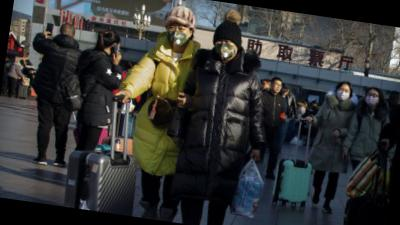with_mask: (164, 23, 192, 49), (214, 37, 239, 63), (335, 86, 351, 102), (365, 91, 381, 107)
without_mask: (271, 82, 283, 94)
